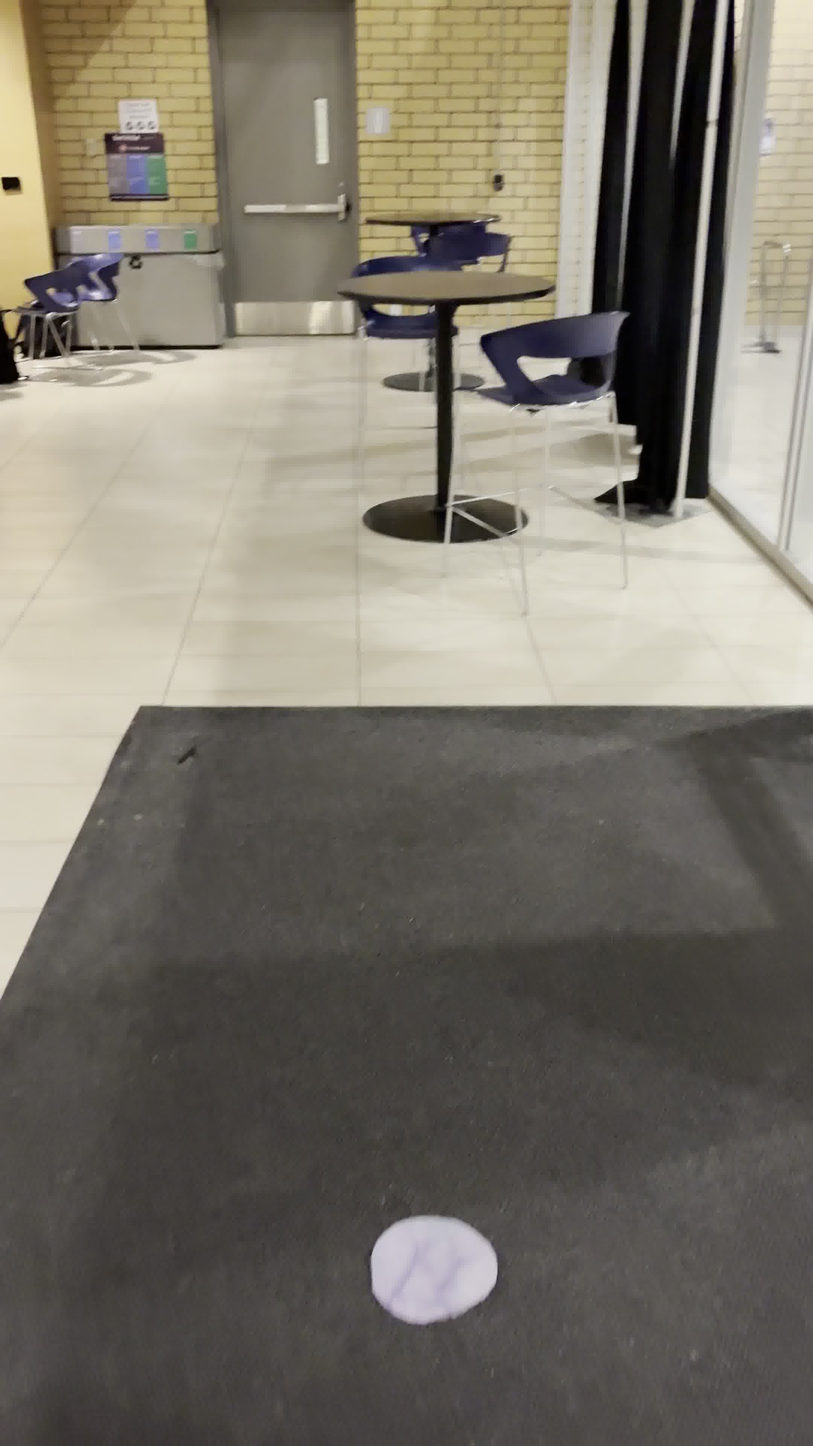Target: (367, 1213, 502, 1328)
